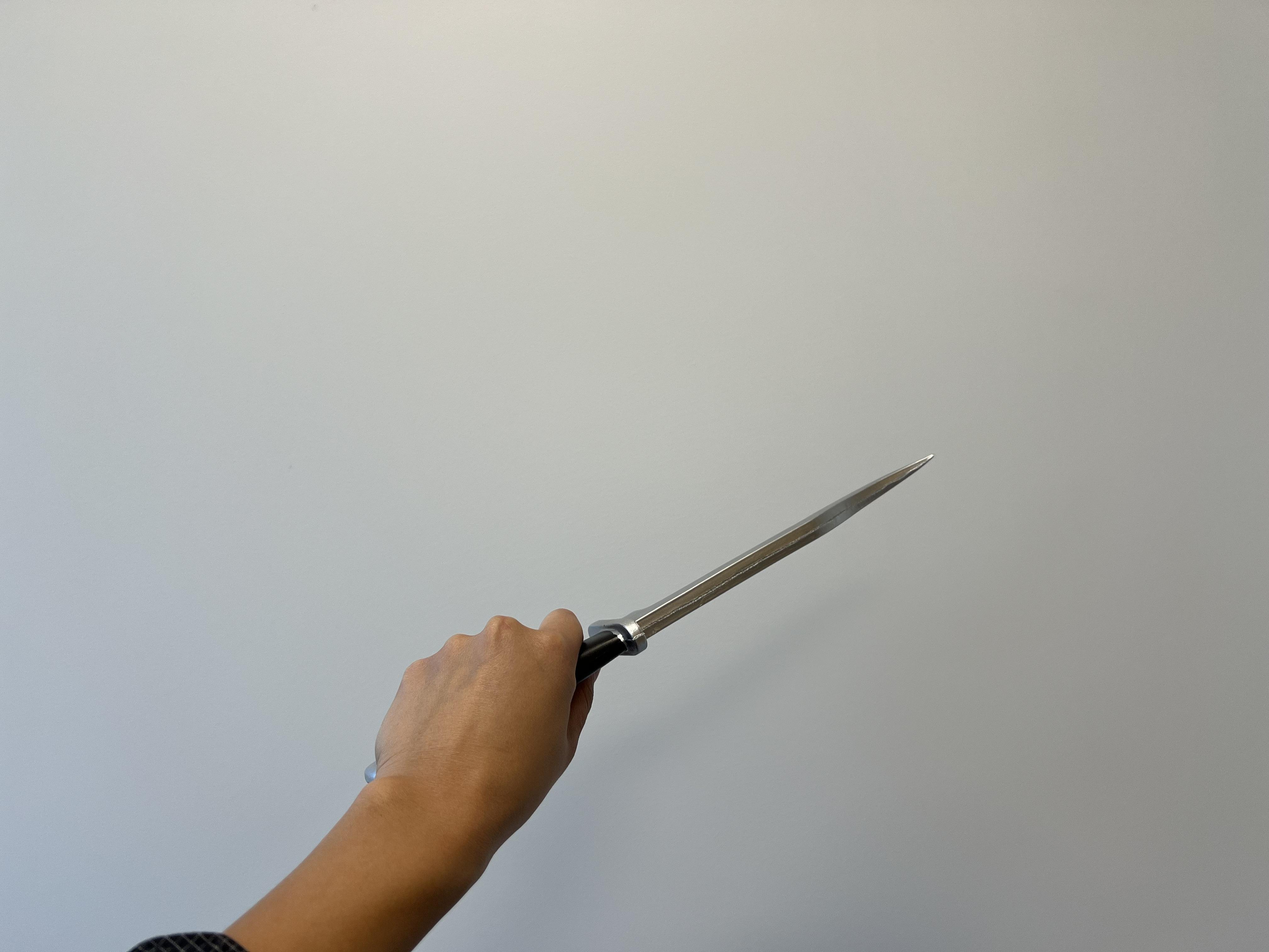Knife: (161, 608, 598, 952), (583, 453, 934, 667), (370, 608, 596, 787)
